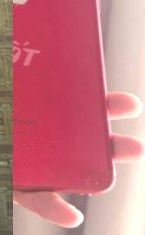scratch: (71, 172, 107, 197)
